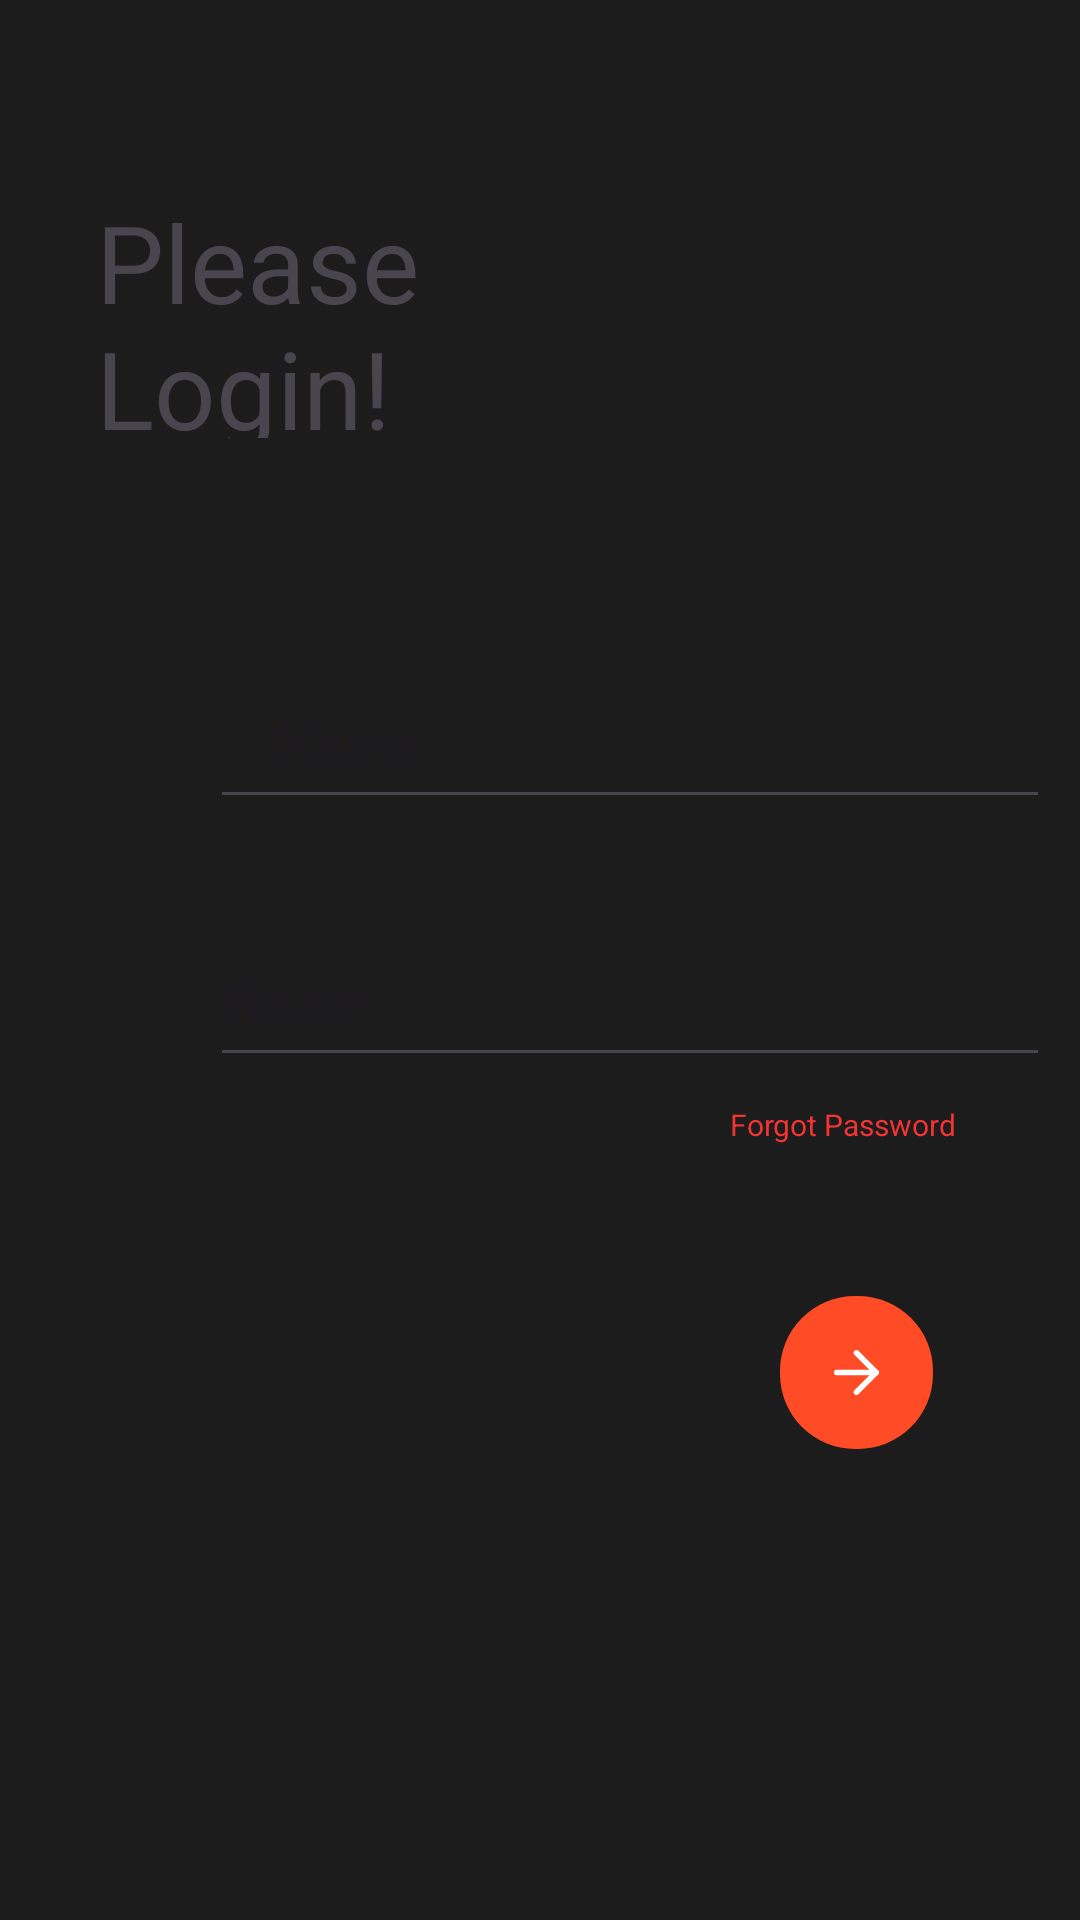

Icon bounding boxes for this 1080x1920 phone screenshot, format bbox(x1, y1, x2, y2):
arrowright: bbox(780, 1296, 933, 1449)
